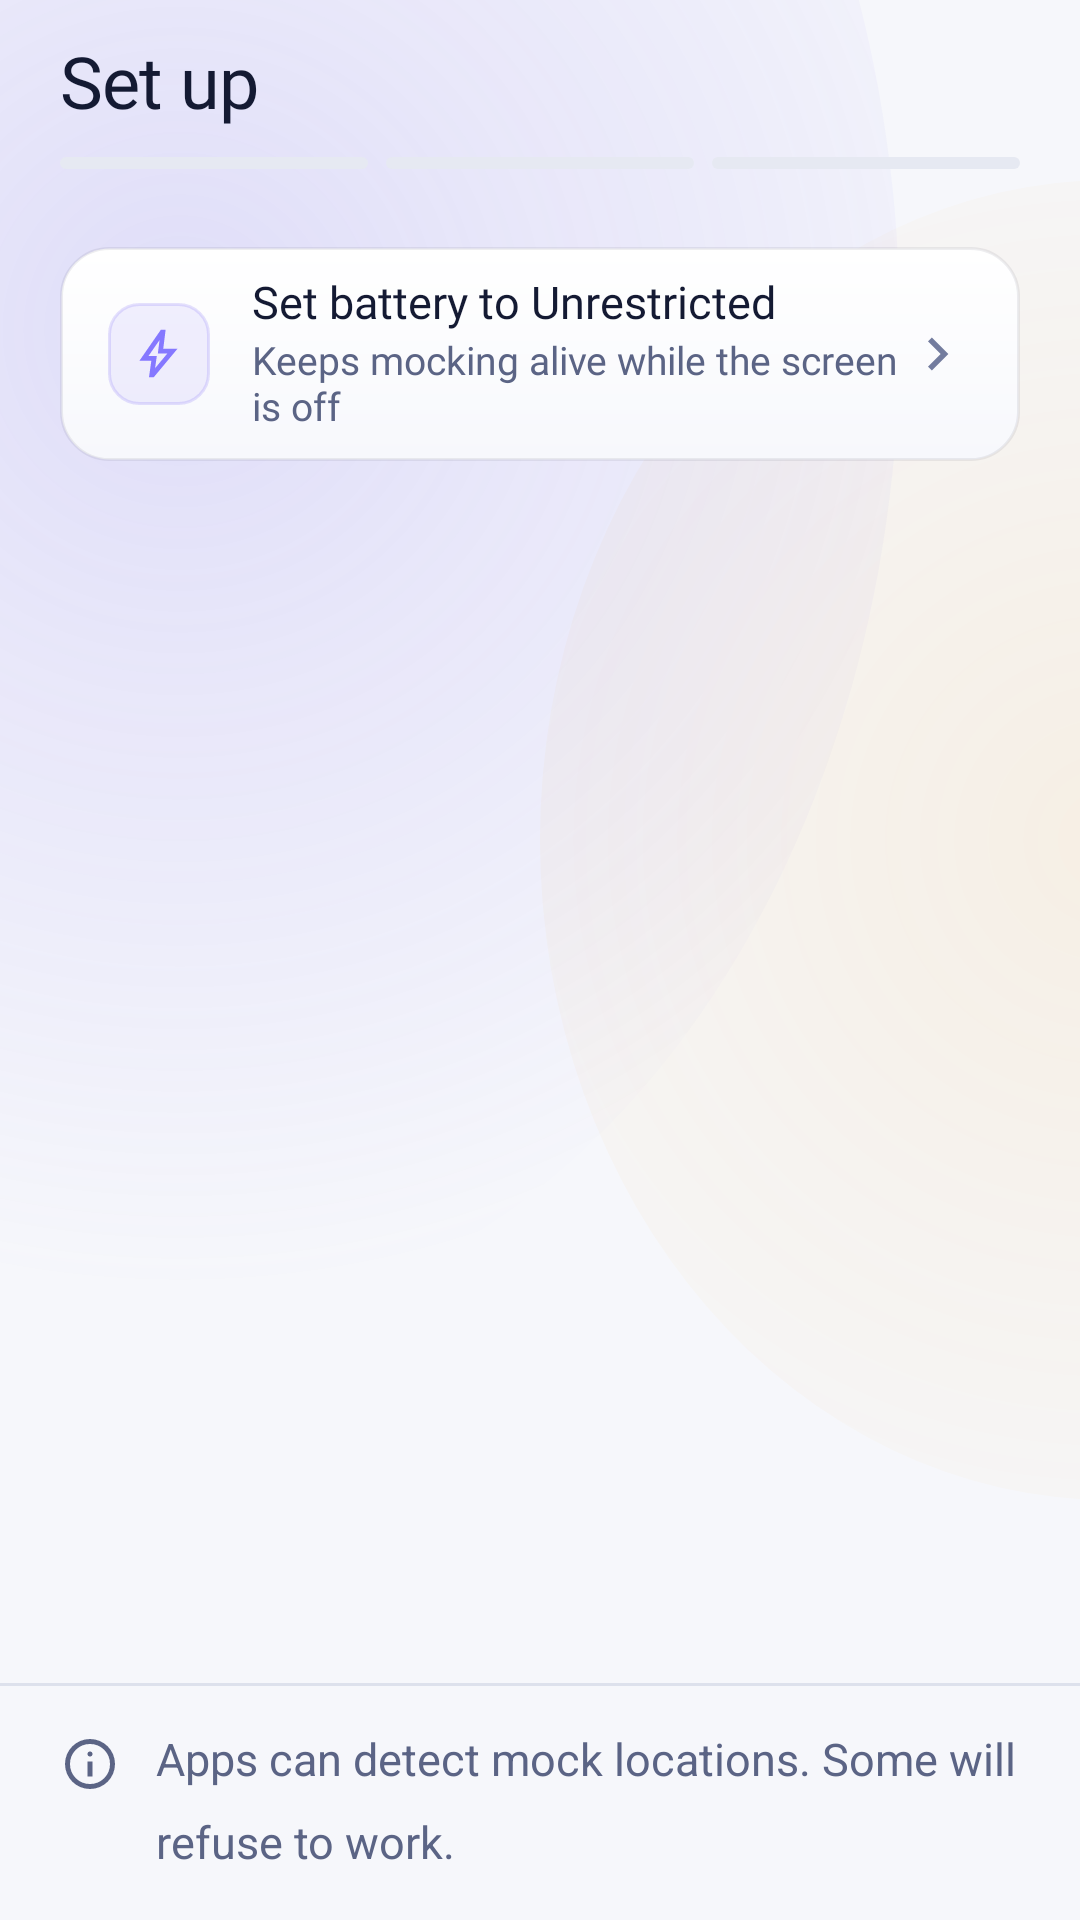

Screen size 1080×1920. Icon name, then its box in pixels as box(x1, y1, x2, y2):
bolt: box(139, 329, 177, 378)
chevron right: box(928, 337, 948, 371)
info: box(65, 1739, 115, 1789)
